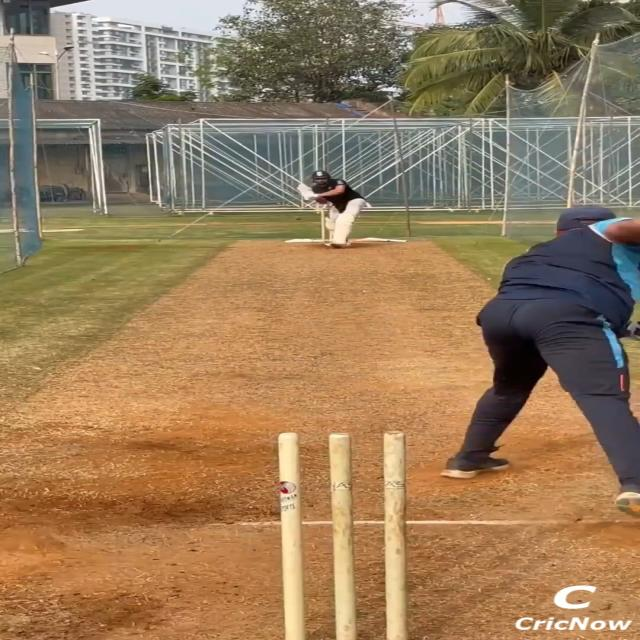stump: (273, 431, 413, 640)
